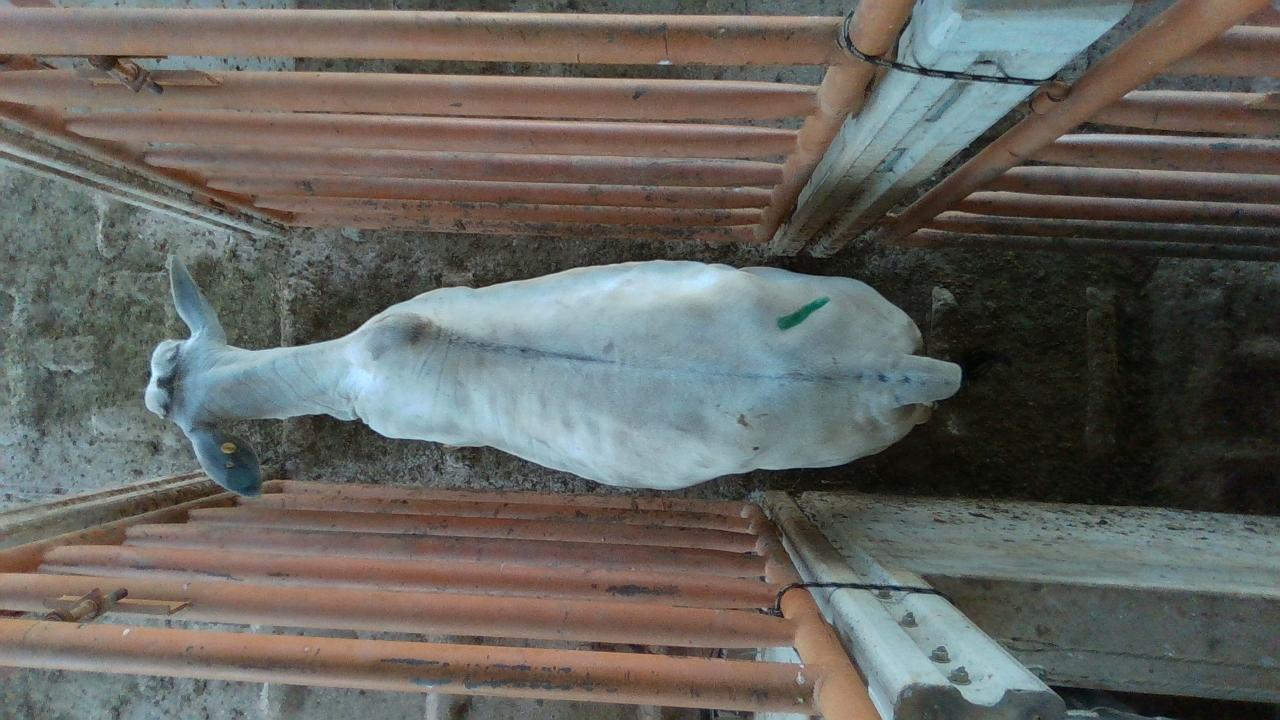cattle: (143, 252, 963, 497)
